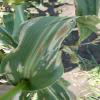Corn leaf blight: (4, 15, 98, 86)
